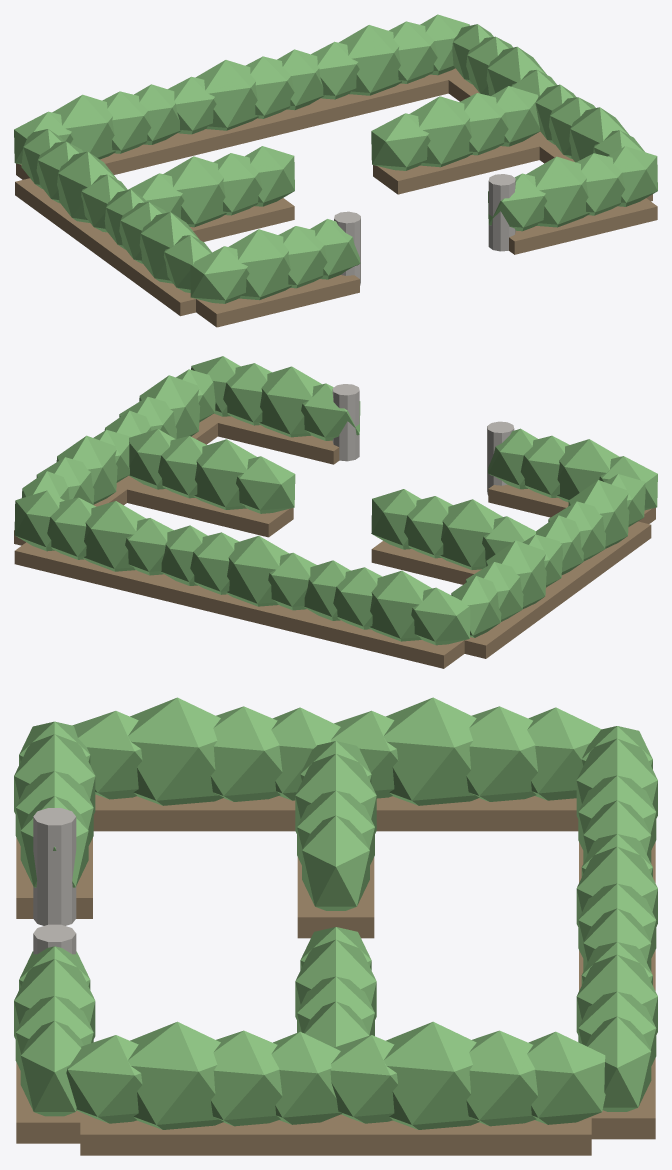
The model's file is bocage-enclosure.glb.
3 views of the same model, one above another, from view 1: azimuth 30°, elevation 25°; view 2: azimuth 150°, elevation 25°; view 3: azimuth 270°, elevation 25° (orthographic). The views are drawn at different scales.
Parts seen in each view (by area): view 1: Bocage; view 2: Bocage; view 3: Bocage.
Part boxes in pixels (x1=…): Bocage: x1=14, y1=14, x2=657, y2=327; Bocage: x1=14, y1=356, x2=657, y2=668; Bocage: x1=14, y1=697, x2=657, y2=1155.
Bounding box in the file's own units: 16.59 × 2.57 × 12.59.
